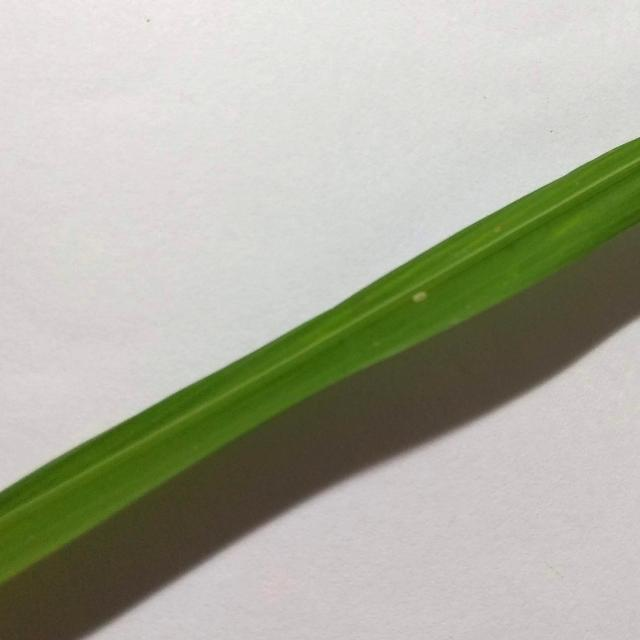Rice_Healthy: (0, 138, 640, 585)
